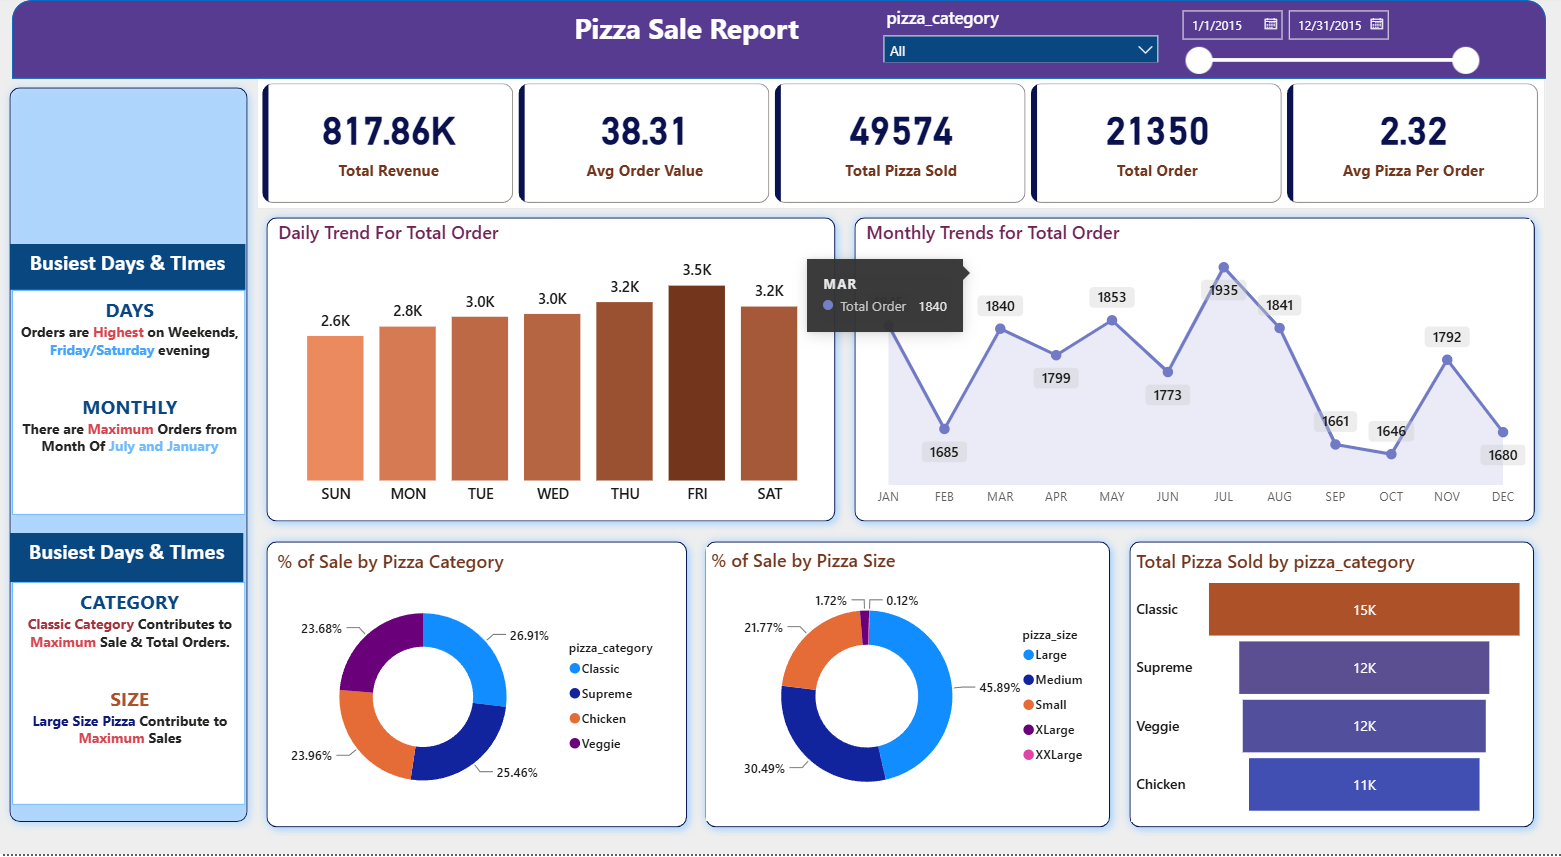

The dashboard page shown, as its layout file describes it:
{"tool":"powerbi","page":{"name":"Page 1","canvas":[1500,820],"ordinal":0},"visuals":[{"type":"shape","box":[0,75,246.7,723.3],"z":0},{"type":"cardVisual","fields":{"Data":["pizza_sales.Total Revenue","pizza_sales.Avg Order Value","pizza_sales.Total Pizza Sold","pizza_sales.Total Order","pizza_sales.Avg Pizza Per Order"]},"box":[246.5,75.2,1236.7,125.3],"z":1000},{"type":"textbox","box":[10,234.3,225.7,44.3],"z":2000},{"type":"shape","box":[11.4,0,1472.9,75.7],"z":3000},{"type":"textbox","box":[546.2,3.8,265,52.5],"z":4000},{"type":"shape","box":[247.1,200,564.3,310],"z":5000},{"type":"clusteredColumnChart","title":" Daily Trend For Total Order","fields":{"Category":["pizza_sales.Order Day"],"Y":["pizza_sales.Total Order"]},"box":[261.8,210.3,537.6,284.1],"z":6000},{"type":"shape","box":[811.4,200,671.4,310],"z":7000},{"type":"areaChart","title":"Monthly Trends for Total Order","fields":{"Category":["pizza_sales.Month Name2"],"Y":["pizza_sales.Total Order"]},"box":[826.5,210.1,643,284.4],"z":8000},{"type":"shape","box":[246.5,511.1,422,292.5],"z":9000},{"type":"shape","box":[668.5,511.1,406.7,292.5],"z":10000},{"type":"shape","box":[1075.1,511.1,406.7,292.5],"z":11000},{"type":"donutChart","title":"% of Sale by Pizza Category","fields":{"Category":["pizza_sales.pizza_category"],"Y":["pizza_sales.Total Revenue"]},"box":[261.5,525.7,392.9,262.9],"z":12000},{"type":"donutChart","title":"% of Sale by Pizza Size","fields":{"Y":["pizza_sales.Total Revenue"],"Category":["pizza_sales.pizza_size"]},"box":[678,525.3,383.8,263.4],"z":13000},{"type":"funnel","fields":{"Y":["pizza_sales.Total Pizza Sold"],"Category":["pizza_sales.pizza_category"]},"box":[1086.4,525.7,383.1,262.9],"z":14000},{"type":"textbox","box":[11.4,278.6,224.3,215.7],"z":15000},{"type":"textbox","box":[10,511.4,224.3,47.1],"z":16000},{"type":"textbox","box":[11.4,558.6,224.3,214.3],"z":17000},{"type":"slicer","fields":{"Values":["pizza_sales.pizza_category"]},"box":[838.6,1.4,284.3,58.6],"z":18000},{"type":"slicer","fields":{"Values":["pizza_sales.order_date"]},"box":[1122.9,0,305.7,75.7],"z":19000}]}

Visuals, with their boxes in screenshot pixels (x1, y1, x2, y2), scaled from the page's 1500x820 canvas onto the 1561x857 screenshot:
shape: region(0, 78, 257, 834)
cardVisual - pizza_sales.Total Revenue x pizza_sales.Avg Order Value: region(257, 79, 1544, 210)
textbox: region(10, 245, 245, 291)
shape: region(12, 0, 1545, 79)
textbox: region(568, 4, 844, 59)
shape: region(257, 209, 844, 533)
" Daily Trend For Total Order" clusteredColumnChart: region(272, 220, 832, 517)
shape: region(844, 209, 1543, 533)
"Monthly Trends for Total Order" areaChart: region(860, 220, 1529, 517)
shape: region(257, 534, 696, 840)
shape: region(696, 534, 1119, 840)
shape: region(1119, 534, 1542, 840)
"% of Sale by Pizza Category" donutChart: region(272, 549, 681, 824)
"% of Sale by Pizza Size" donutChart: region(706, 549, 1105, 824)
funnel - pizza_sales.Total Pizza Sold x pizza_sales.pizza_category: region(1131, 549, 1529, 824)
textbox: region(12, 291, 245, 517)
textbox: region(10, 534, 244, 584)
textbox: region(12, 584, 245, 808)
slicer - pizza_sales.pizza_category: region(873, 1, 1169, 63)
slicer - pizza_sales.order_date: region(1169, 0, 1487, 79)
